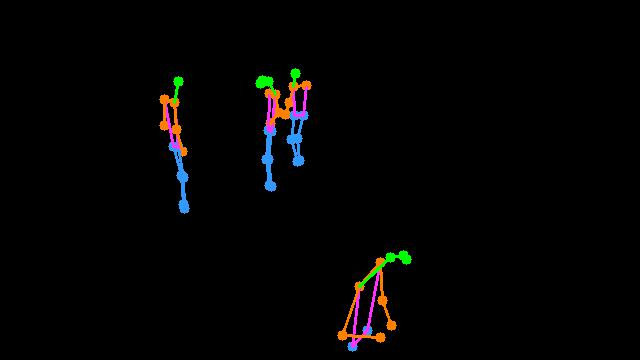normal: (236, 51, 332, 202), (147, 62, 216, 227)
